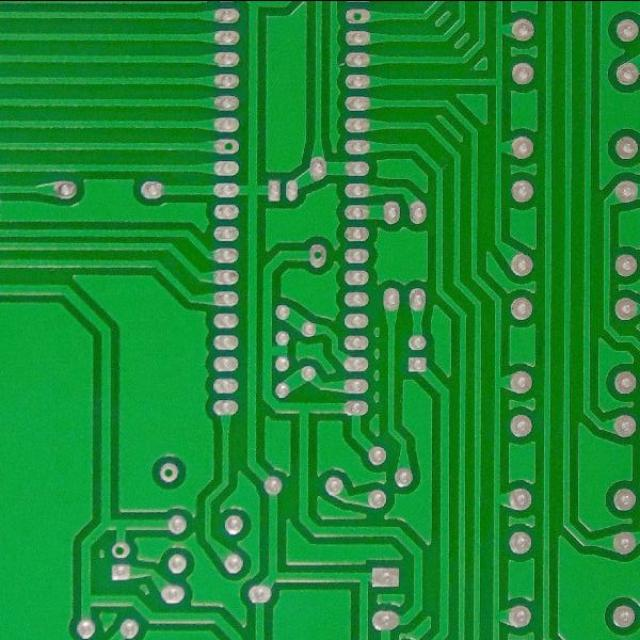Missing_Hole: (305, 243, 329, 268), (214, 135, 241, 156), (344, 5, 371, 26), (158, 461, 181, 484), (110, 541, 132, 560)
